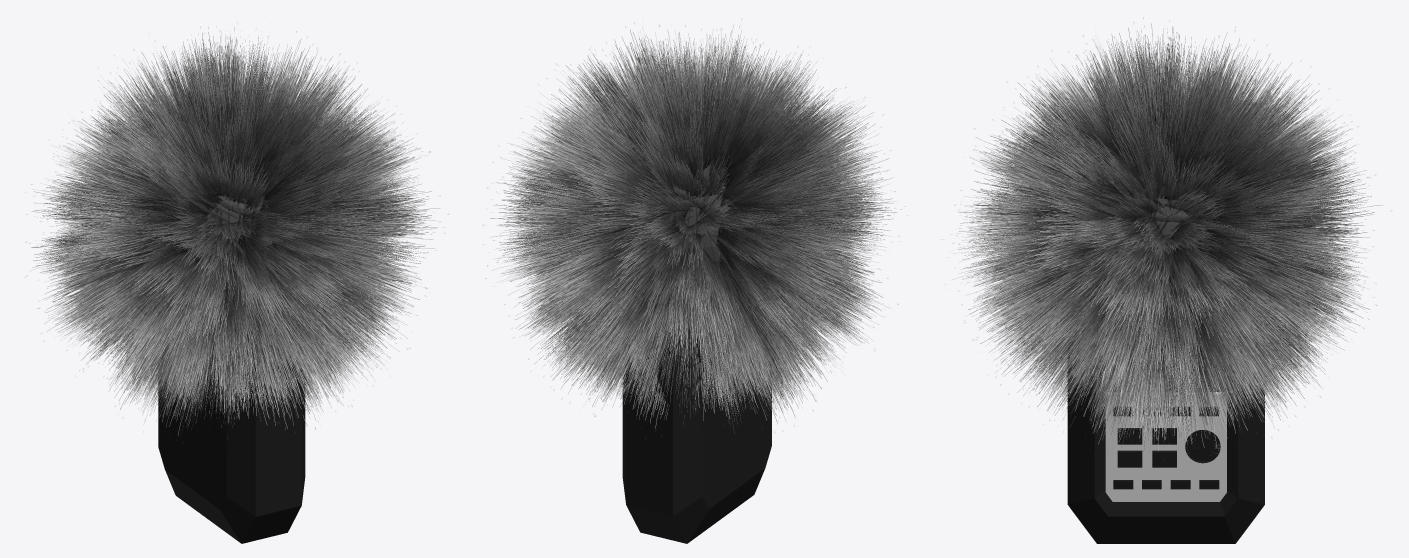
Rendered from akanjogh.glb.
3 views of the same model, side by side, from view 1: azimuth 30°, elevation 25°; view 2: azimuth 150°, elevation 25°; view 3: azimuth 270°, elevation 25° (orthographic). The views are drawn at different scales.
Parts seen in each view (by area): view 1: Plane.011, Cube.003, Sphere.002; view 2: Plane.011, Cube.003, Sphere.002; view 3: Plane.011, Cube.003, Sphere.002.
Boxes of the visible parts, x1,y1,x2,y2 form: Plane.011: (24,26,448,439); Cube.003: (158,306,305,543); Sphere.002: (166,159,294,274); Plane.011: (483,19,901,439); Cube.003: (622,290,771,543); Sphere.002: (637,164,741,276); Plane.011: (951,17,1382,455); Cube.003: (1067,335,1264,543); Sphere.002: (1118,173,1230,300).
Size of the model in its own units: 1.7 by 2.05 by 1.7.
4 materials, 1 textured.
